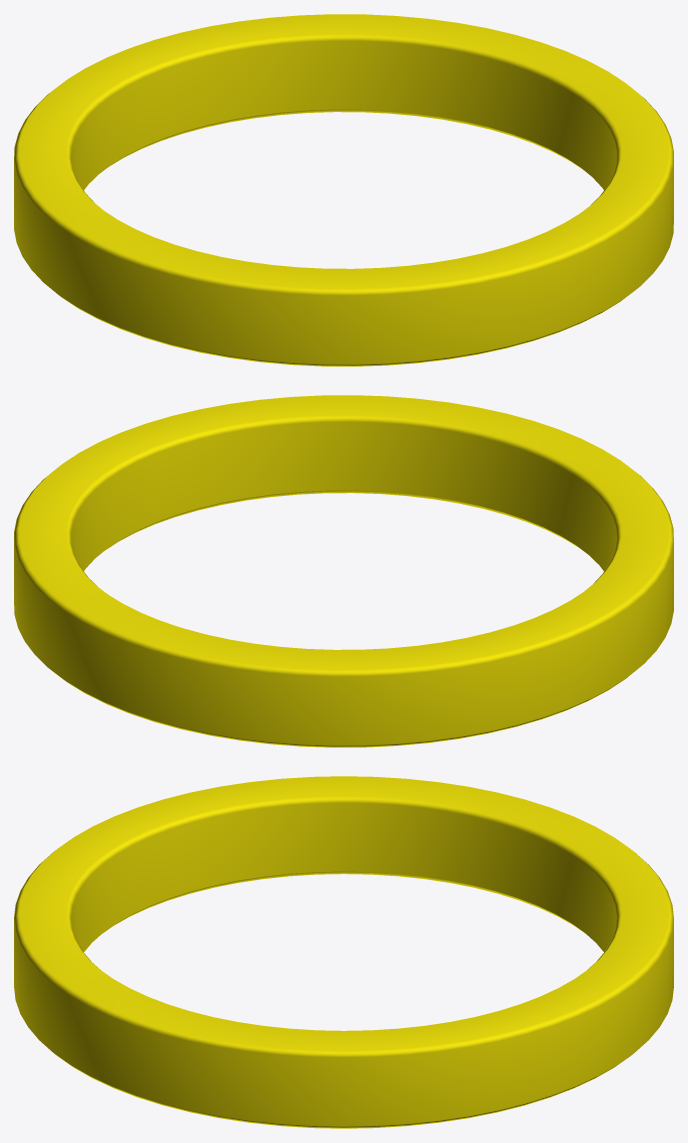
The picture shows the model from 3 angles, top to bottom: view 1: azimuth 30°, elevation 25°; view 2: azimuth 150°, elevation 25°; view 3: azimuth 270°, elevation 25°; orthographic projection.
Visible parts, largest first — view 1: seal_body; view 2: seal_body; view 3: seal_body.
Part boxes in pixels (box(x1,y1,x2,y2)): seal_body: box(14, 14, 673, 366); seal_body: box(14, 395, 673, 747); seal_body: box(14, 776, 673, 1128).
Size of the model in its own units: 0.073 by 0.00952 by 0.073.
